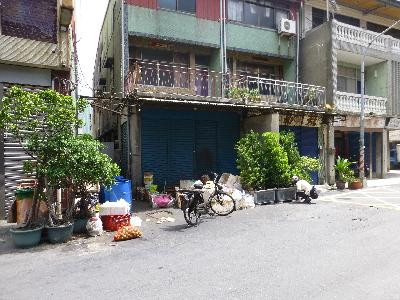box: (218, 172, 234, 185)
bucket: (105, 179, 134, 211)
styrofoam: (97, 201, 130, 216)
